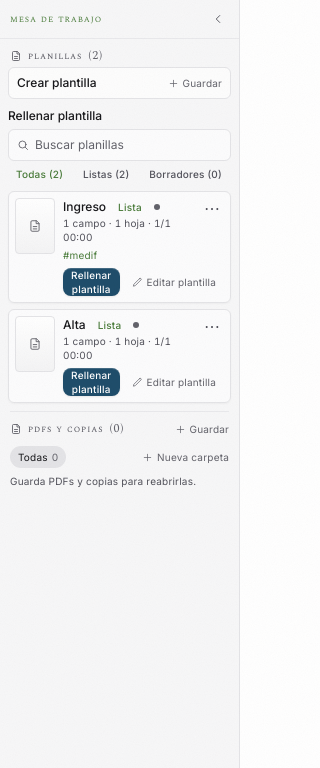
<WorkspacePanel /> · planillas › busca planillas por tags y descripción, no solo por nombre
The width and height of the screenshot is (320, 768).
In the search field: (128, 145) [35,136,222,154], type "medif"
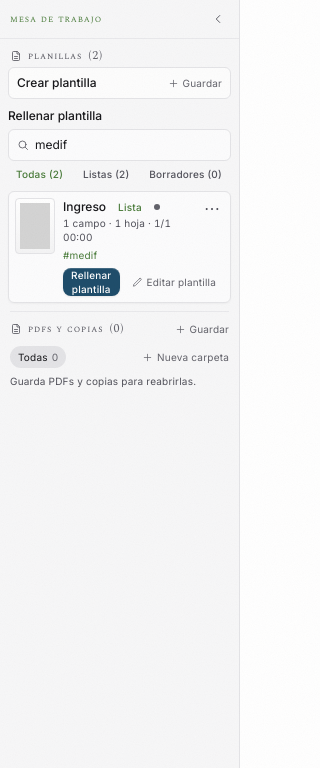
expect the text "Ingreso" is shown: met, box [63,198,106,216]
expect the text "Alta" is gone: met
